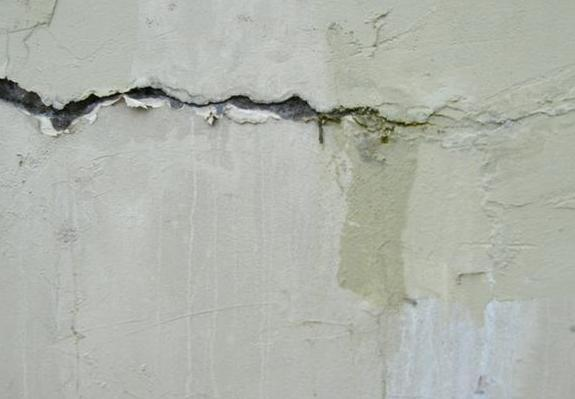crack: (1, 62, 574, 160)
